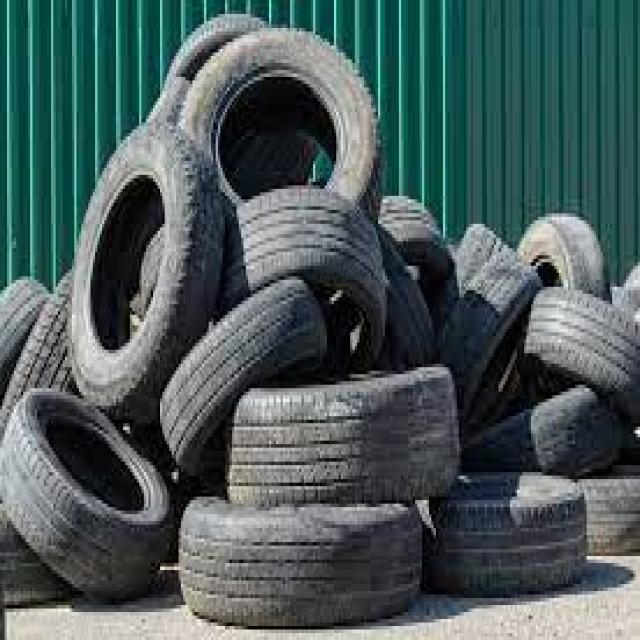Rubber -Non-Biodegradable but Recyclable-: (0, 6, 640, 634)
